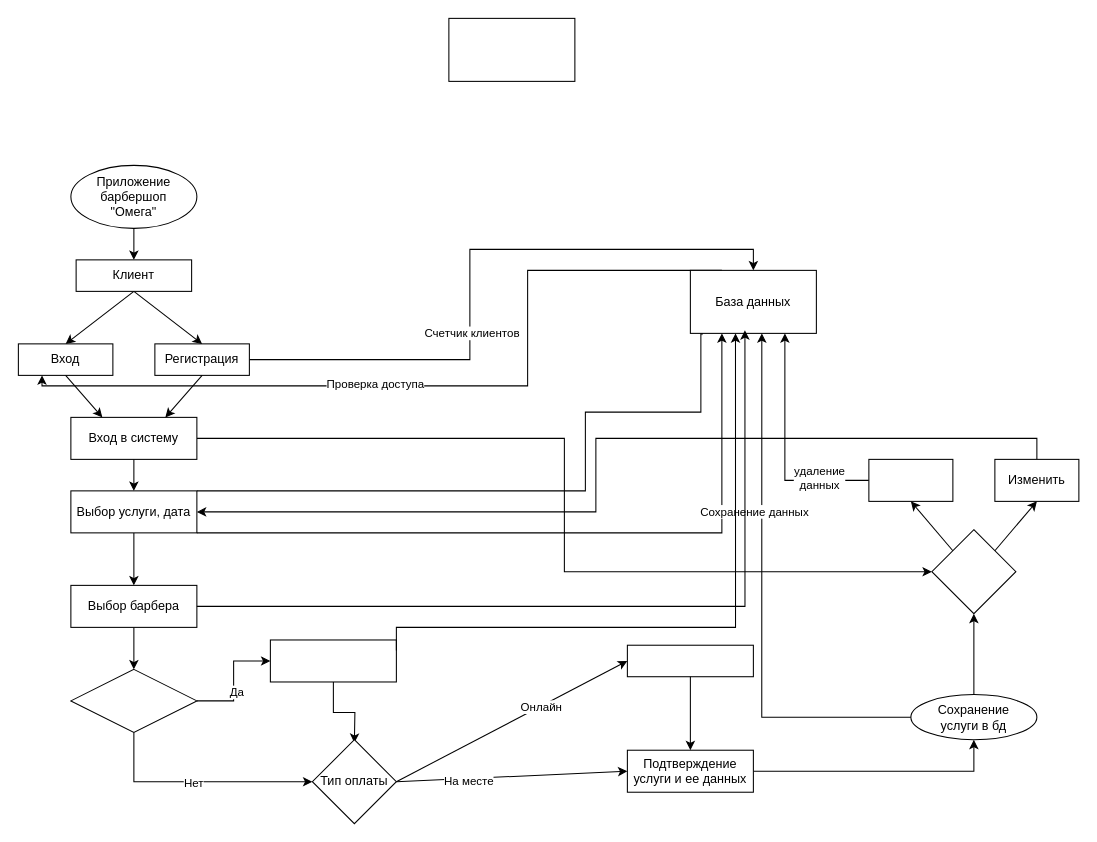
The diagram is 1097 pixels wide and 842 high, and some of its shapes have lost their labels. Each missing label, with the centre of its shape:
"Барбершоп *Омега*" goes at (511,49).
"Выбор дополнительных услуг" goes at (332,660).
"Дополнительные услуги?" goes at (133,700).
"Реквезиты" goes at (689,660).
"Удалить" goes at (910,479).
"Услуги" goes at (973,571).
